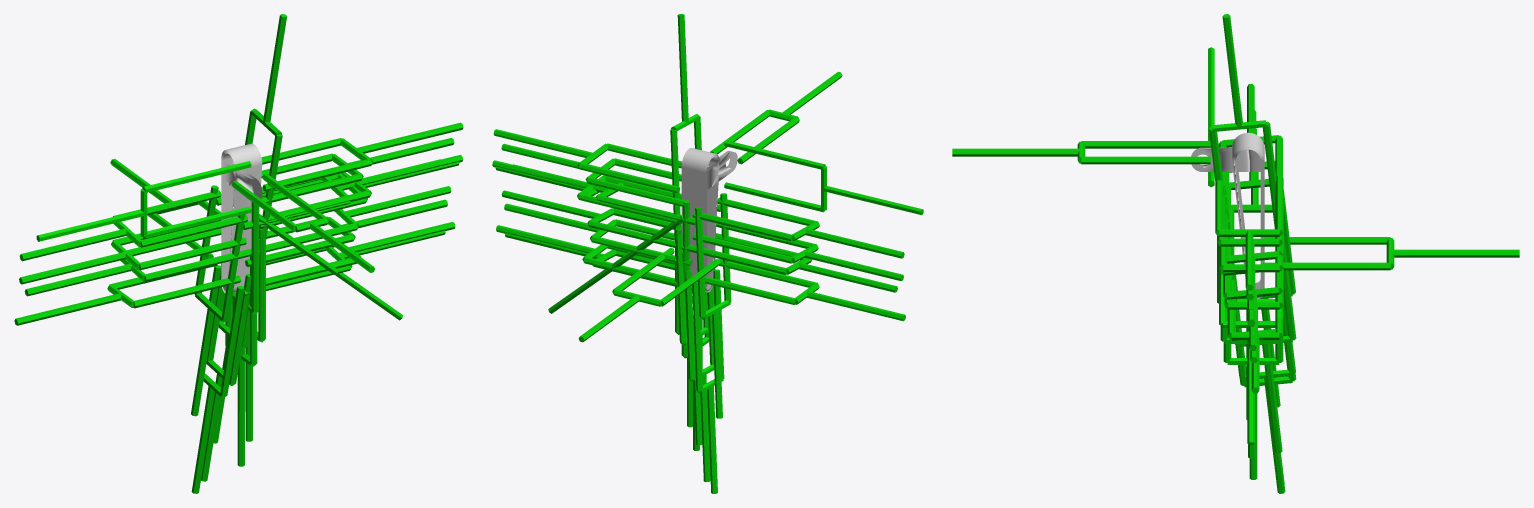
3 views of the same model, side by side, from view 1: azimuth 30°, elevation 25°; view 2: azimuth 150°, elevation 25°; view 3: azimuth 270°, elevation 25° (orthographic). The views are drawn at different scales.
Visible parts, largest first — view 1: world, 00442854_5877bd4e5a794d10bcd2aa2c_step_000_0004.obj; view 2: world, 00442854_5877bd4e5a794d10bcd2aa2c_step_000_0004.obj; view 3: world, 00442854_5877bd4e5a794d10bcd2aa2c_step_000_0004.obj.
Part boxes in pixels (left/top/right/bottom): world: left=14, top=14, right=463, bottom=493; 00442854_5877bd4e5a794d10bcd2aa2c_step_000_0004.obj: left=221, top=143, right=262, bottom=293; world: left=492, top=14, right=923, bottom=493; 00442854_5877bd4e5a794d10bcd2aa2c_step_000_0004.obj: left=681, top=148, right=737, bottom=292; world: left=952, top=14, right=1519, bottom=493; 00442854_5877bd4e5a794d10bcd2aa2c_step_000_0004.obj: left=1191, top=132, right=1264, bottom=299.
Size of the model in its own units: 277 by 287 by 290.
